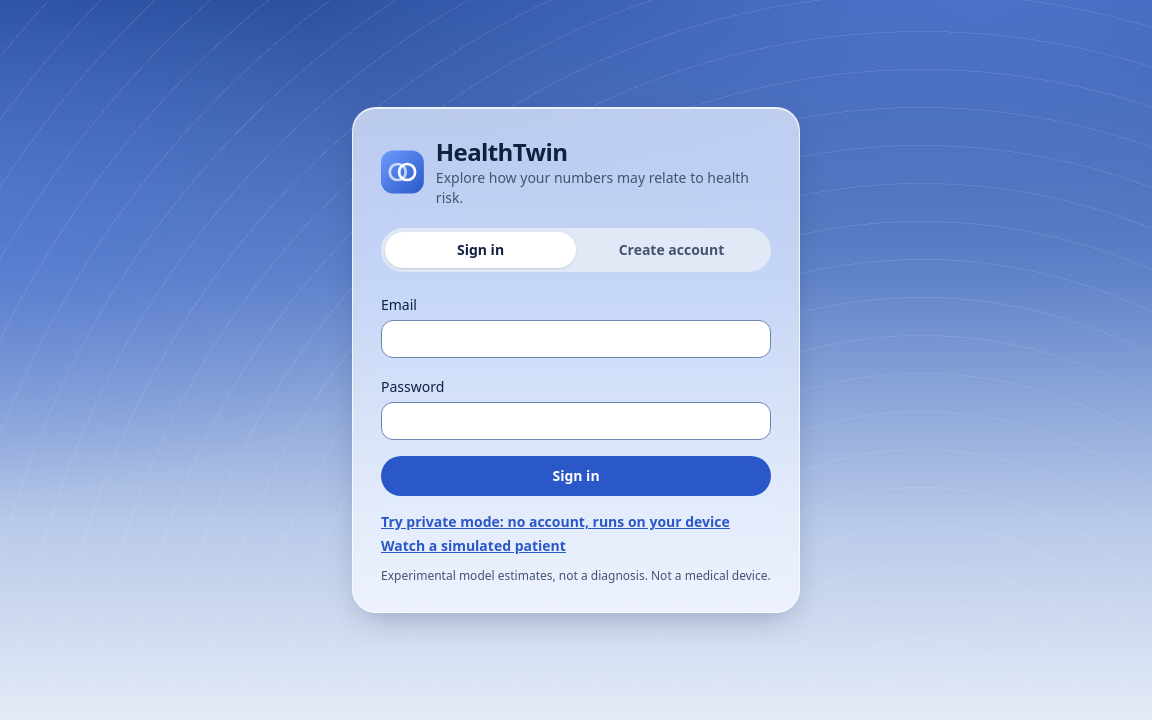
Test: AuthPage › shows the server's message when sign-in fails
Type "a@example.com" into the field labelled "Email" at (576, 339), box [381,320,771,358]
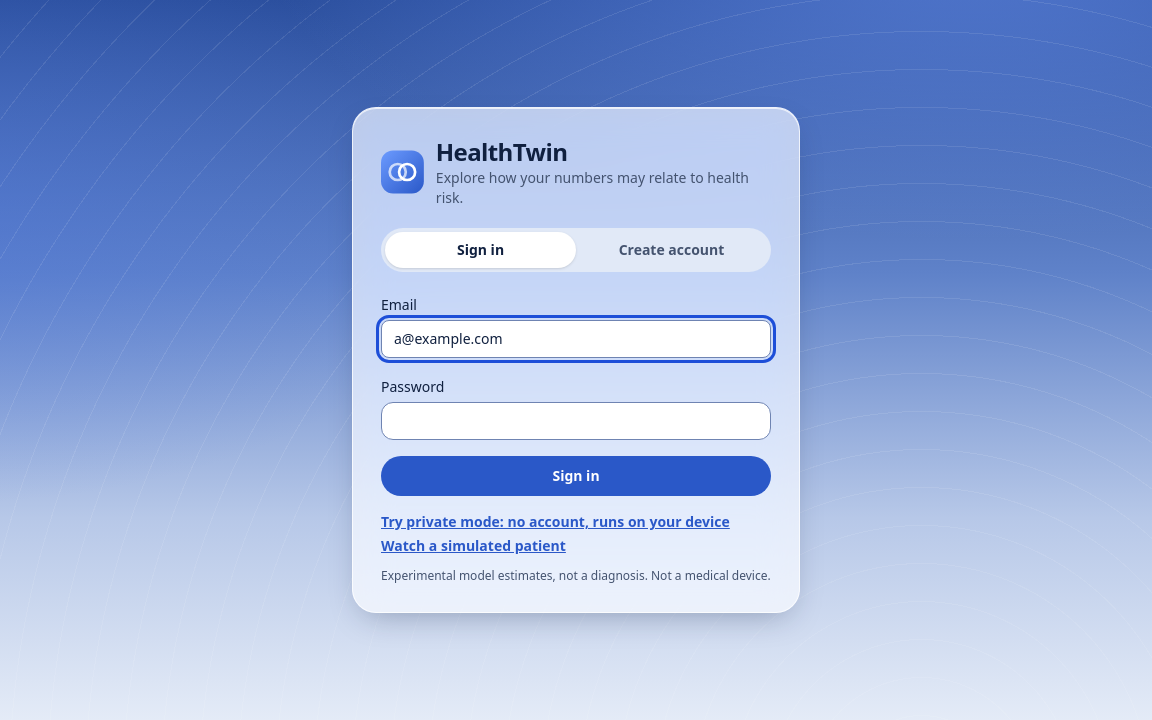
Type "whatever-123456" into the password field labelled "Password" at (576, 421), box [381,402,771,440]
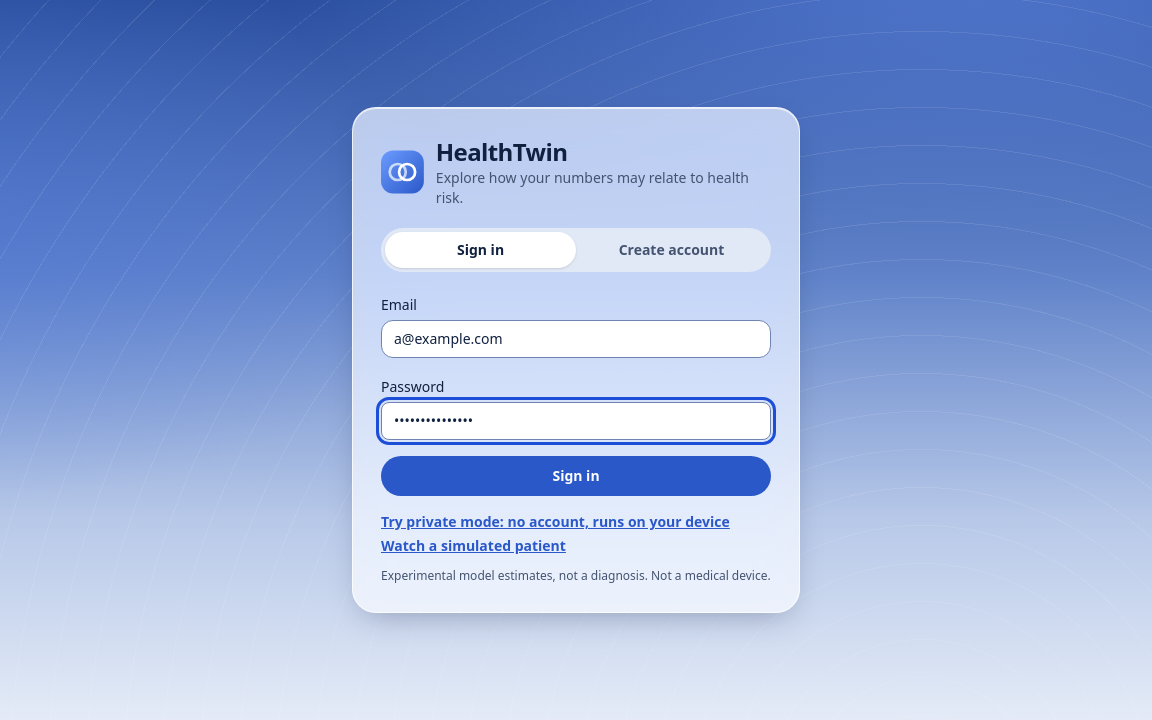
Click the button "Sign in" at (576, 476), box [381,456,771,496]
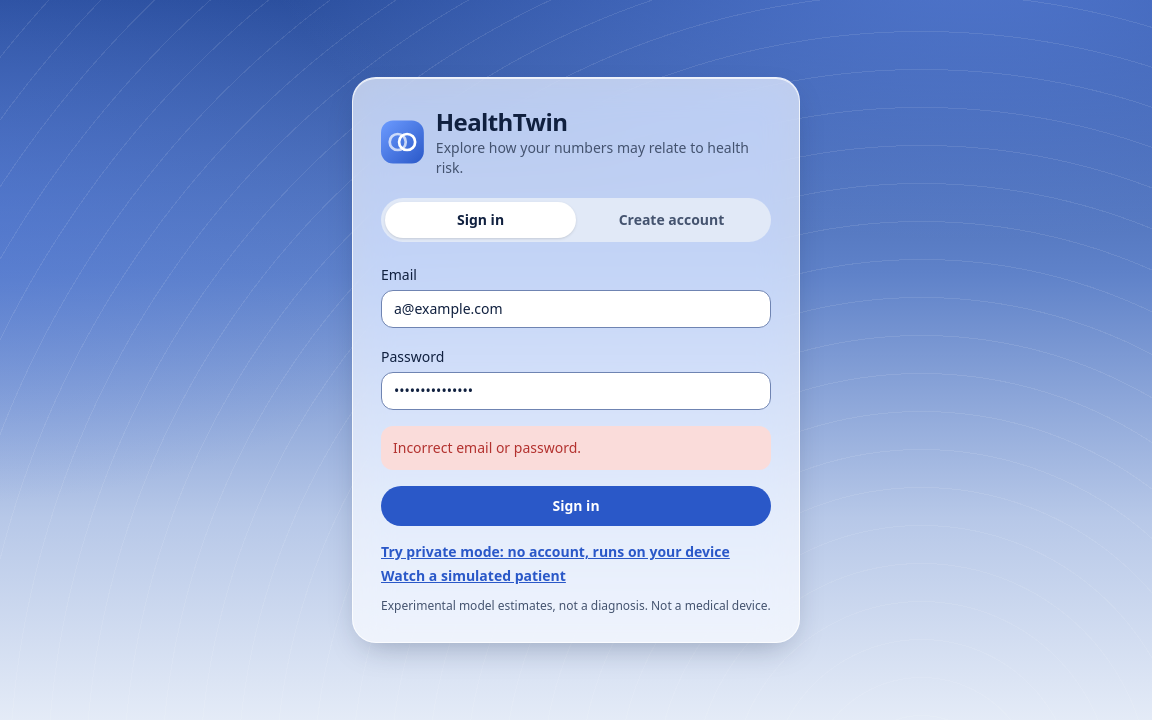
Now the message reads "Incorrect email or password.", box [393,438,581,457]
